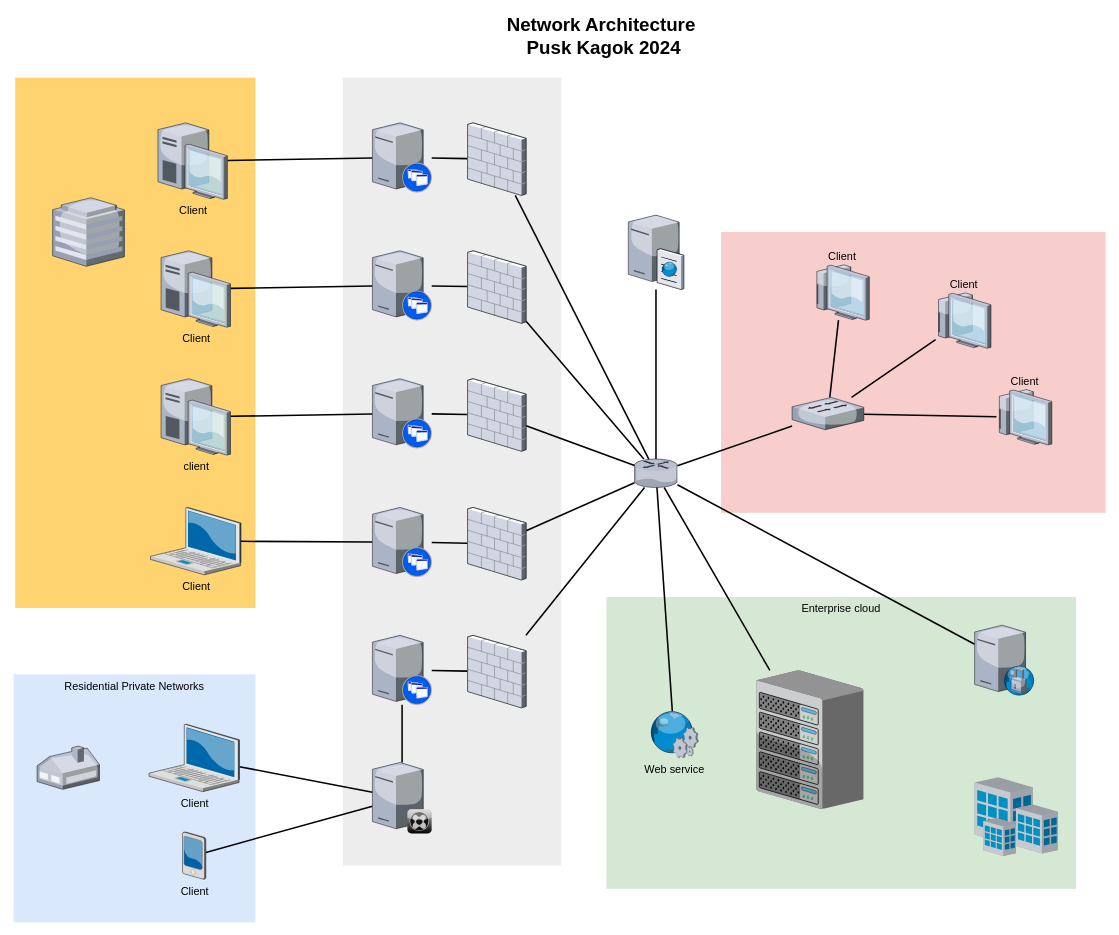
Some shapes in this 1119 by 935 pixel diagram are drawn without their labels. Here are the shapes that lost their labels. From the top down, the box of each, then its label:
(628, 213, 683, 289): Web Server
(15, 77, 255, 608): Enterprise Networks
(721, 232, 1105, 512): Outside Networks
(342, 77, 561, 865): Citrix XenApp Server Farm with firewalls
(974, 625, 1034, 695): Secure Server
(756, 670, 863, 808): DNS
